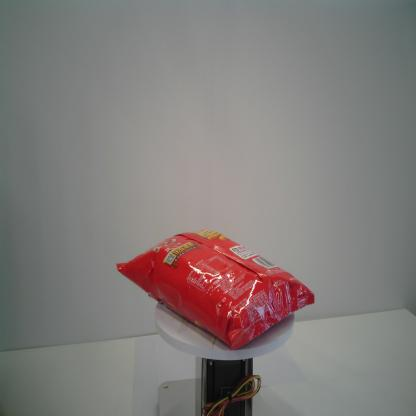Puffed Food: (114, 226, 316, 350)
